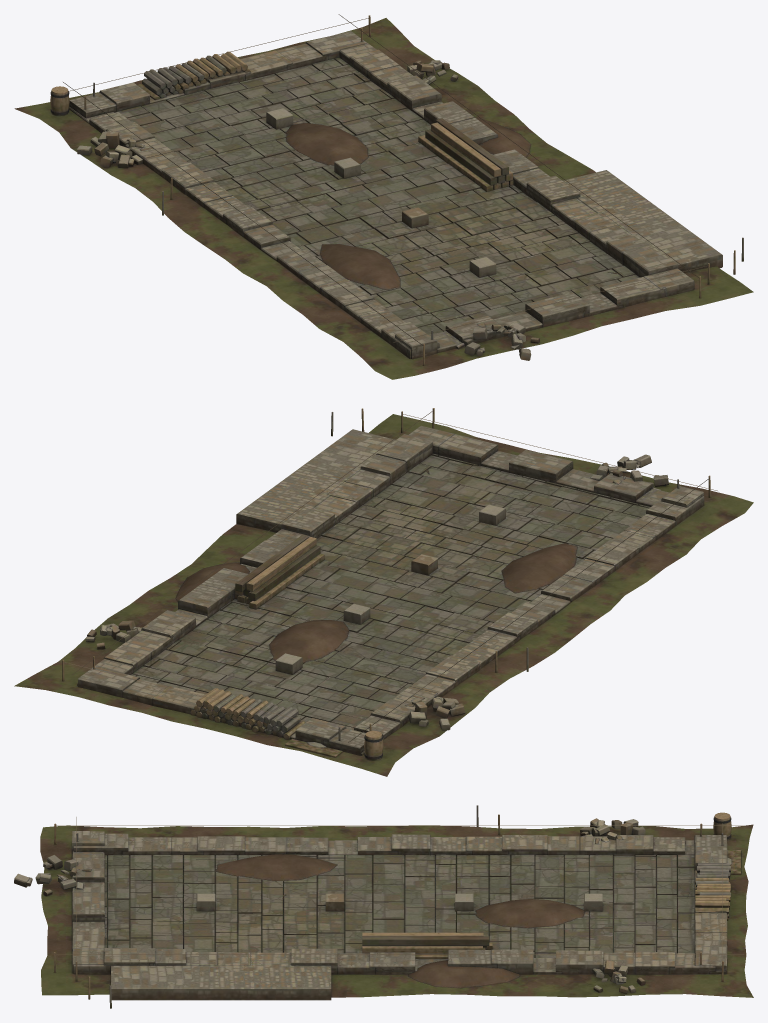
The model's file is guildhall_build1.glb.
3 renders of one model, top to bottom at view 1: azimuth 30°, elevation 25°; view 2: azimuth 150°, elevation 25°; view 3: azimuth 270°, elevation 25°, orthographic. The views are drawn at different scales.
Visible parts, largest first — view 1: guildhall_build1_LOD0; view 2: guildhall_build1_LOD0; view 3: guildhall_build1_LOD0.
Boxes of the visible parts, x1,y1,x2,y2 form: guildhall_build1_LOD0: (14, 14, 753, 379); guildhall_build1_LOD0: (14, 408, 753, 776); guildhall_build1_LOD0: (14, 805, 753, 1008).
Size of what is drawn, in the model's own units: 13.93 by 0.9 by 23.84.
1 material, 1 textured.
